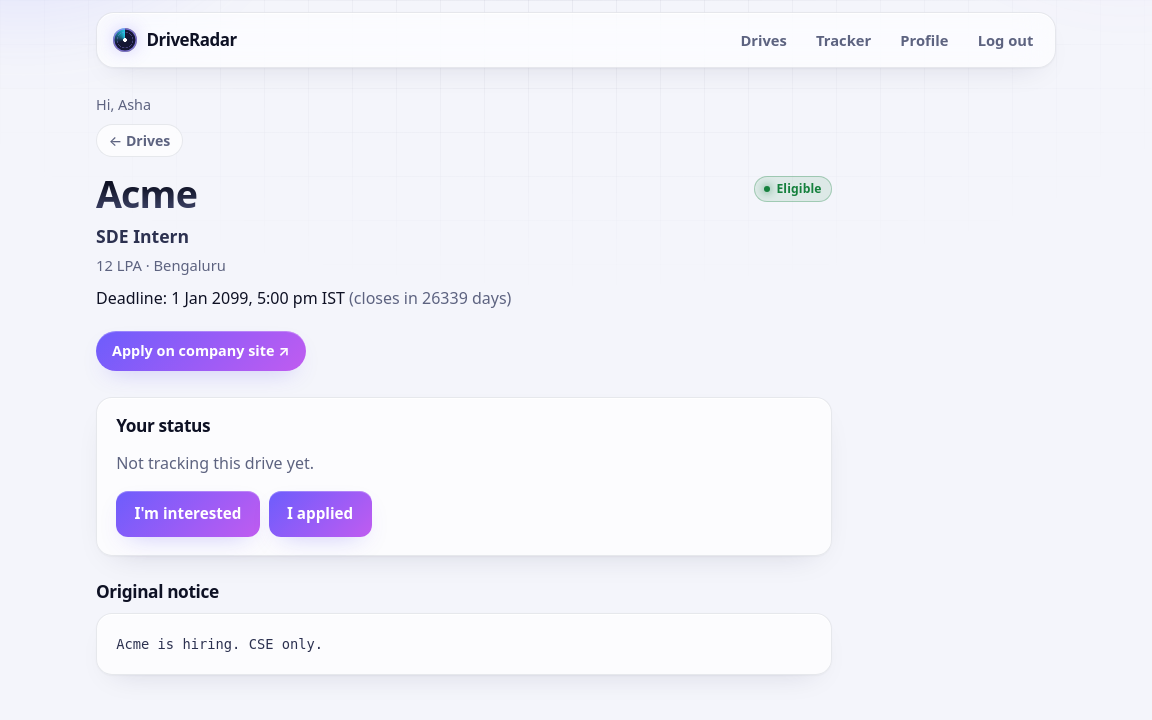
Test: drive page › shows the server's 409 message when a move is refused
The image size is (1152, 720).
Click the button "I applied" at (320, 514), box 269,491 -> 372,537
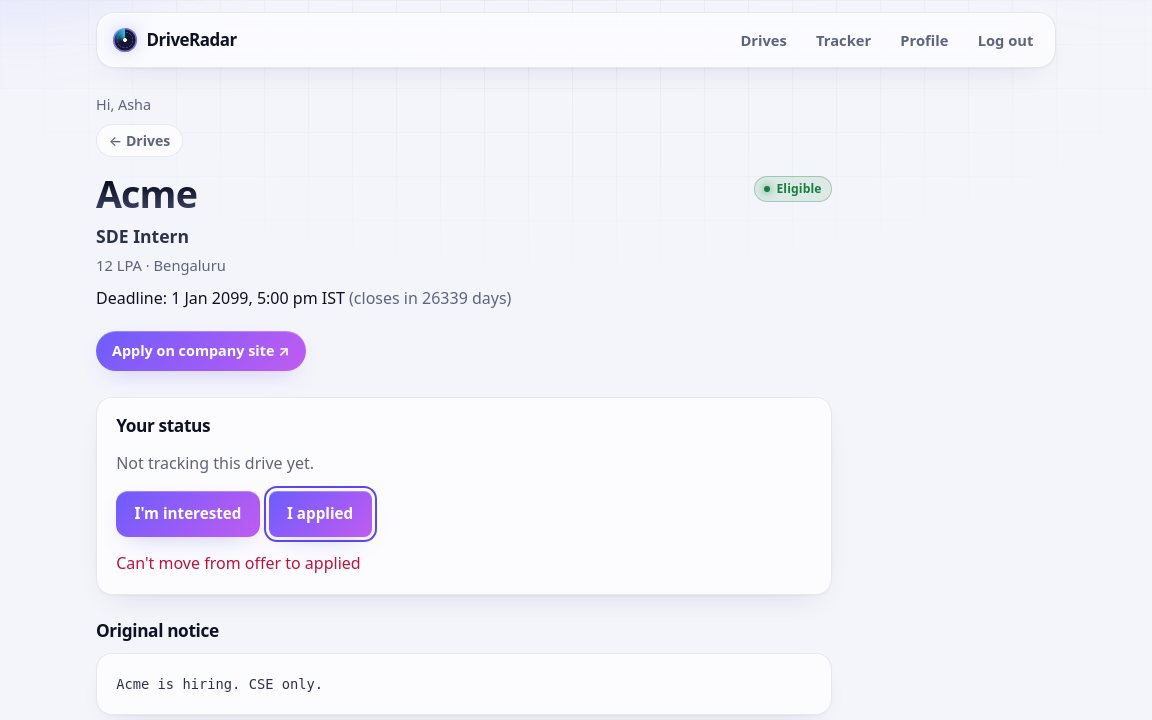
Expected: the message reads "Can't move from offer to applied", 116,552 -> 361,574
